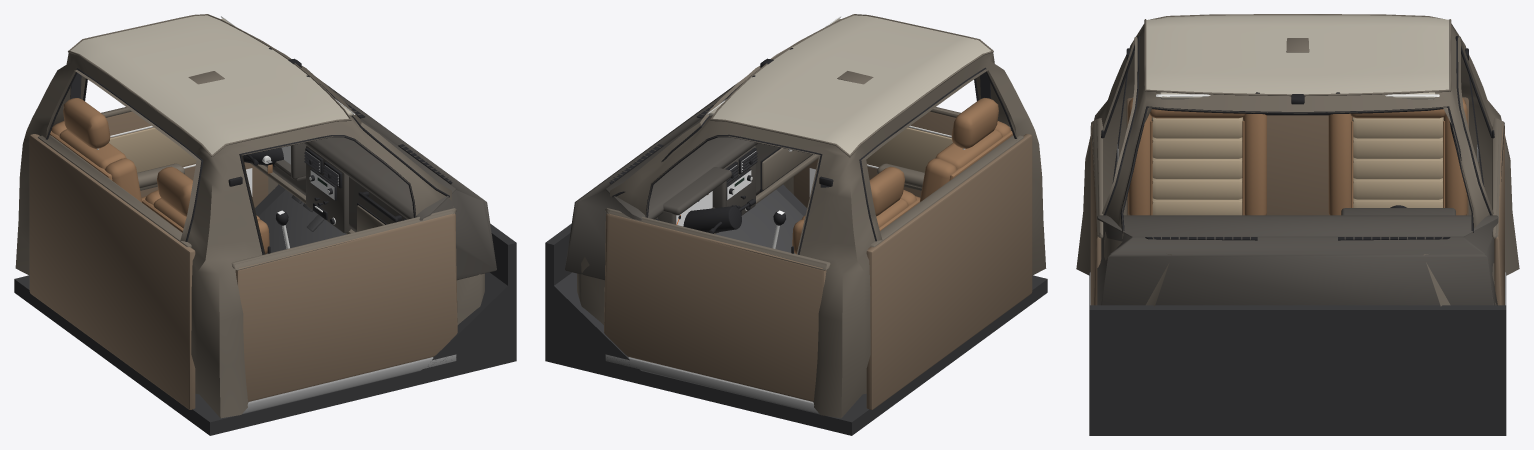
File: interior.glb
The picture shows the model from 3 angles, left to right: view 1: azimuth 30°, elevation 25°; view 2: azimuth 150°, elevation 25°; view 3: azimuth 270°, elevation 25°; orthographic projection. The views are drawn at different scales.
Parts seen in each view (by area): view 1: Cab; view 2: Cab; view 3: Cab.
Boxes of the visible parts, left/top/right/bottom form: Cab: left=14, top=14, right=516, bottom=435; Cab: left=545, top=14, right=1047, bottom=435; Cab: left=1076, top=14, right=1519, bottom=435.
Size of the model in its own units: 1.43 by 1.16 by 1.66.
